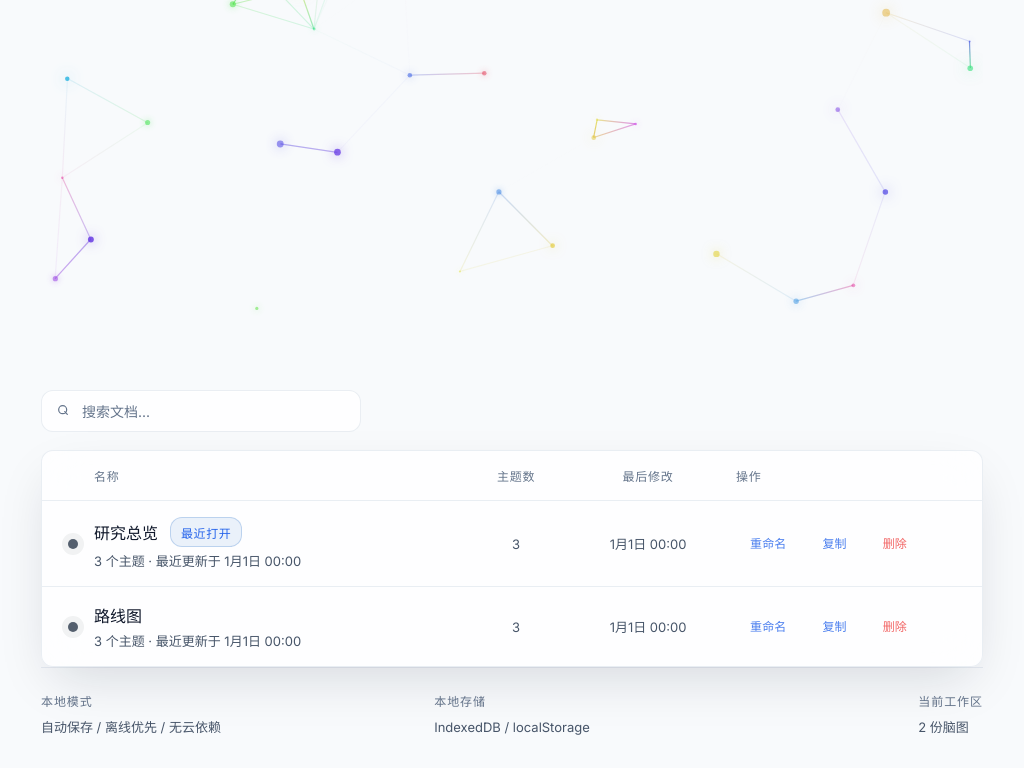
Test case: HomePage › renames a document inline and persists through the service
(page scrolled)
Click the button "重命名" in the row of "最近打开".
click(768, 544)  # box [736,526,800,562]
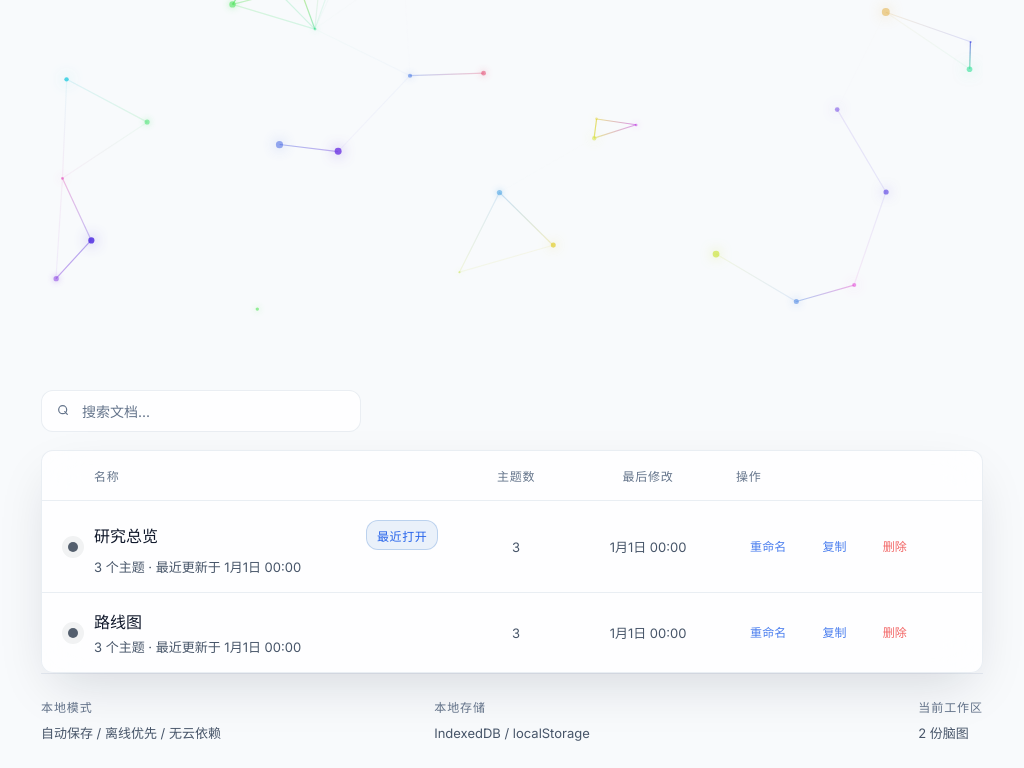
Replace the text in the field named "重命名脑图" with "新的主题板" at (224, 535), box [94,517,354,553]
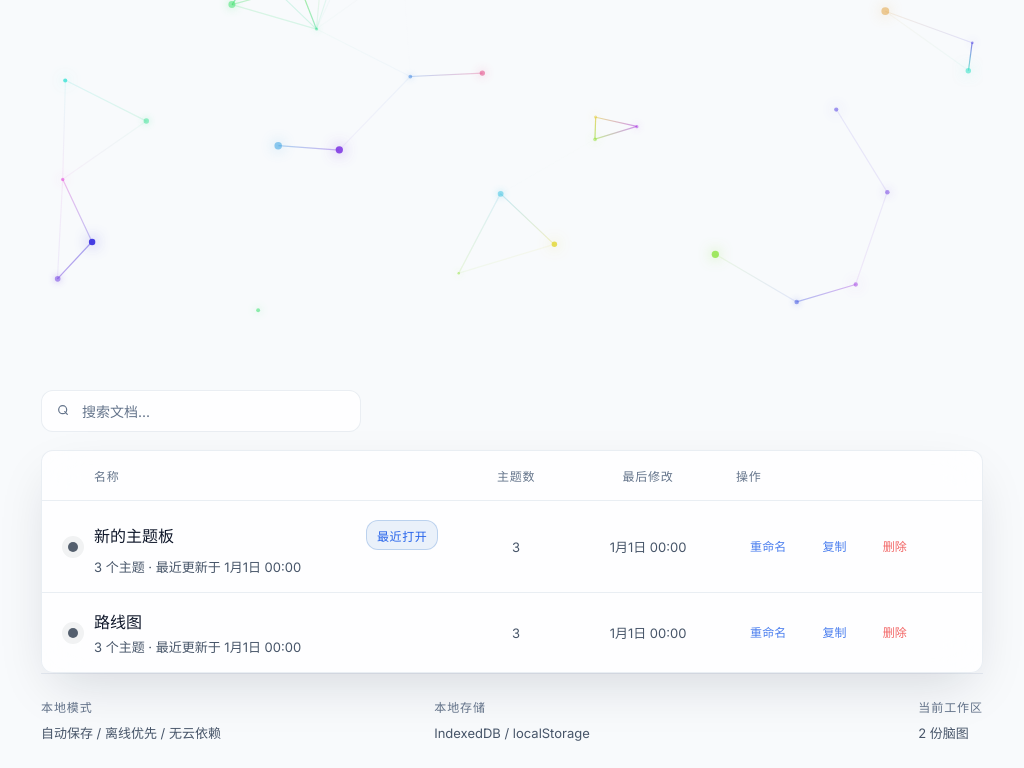
Leave the field named "重命名脑图", box [94,517,354,553]
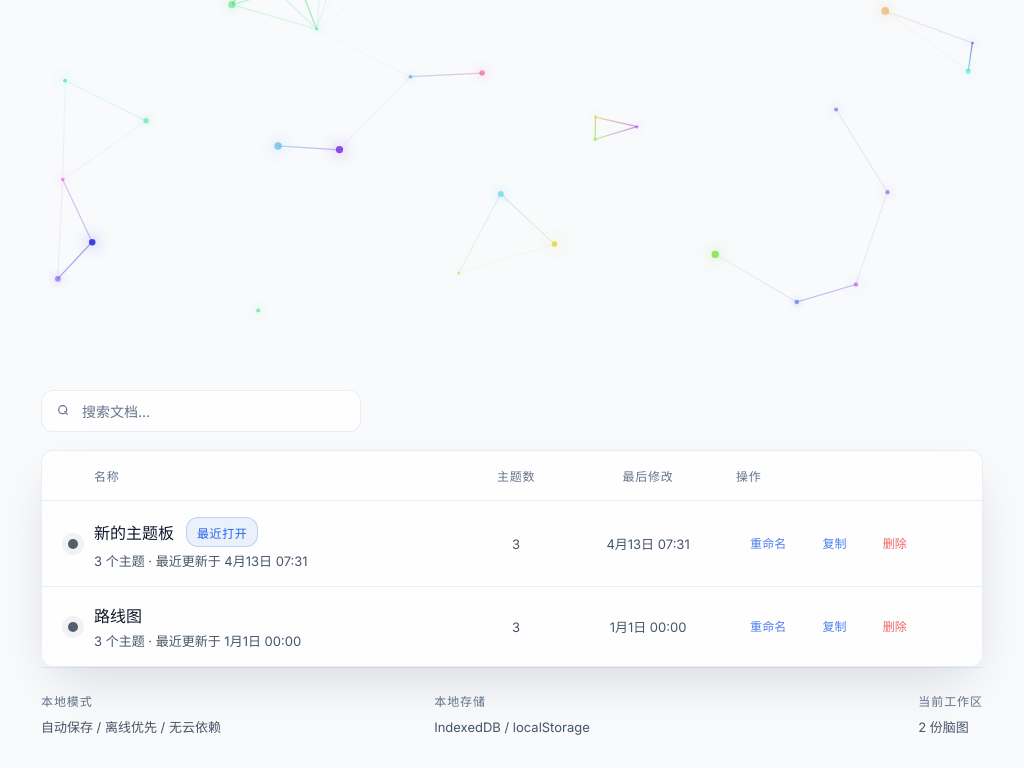
Result: the button "新的主题板" is shown at [94,520,174,544]
